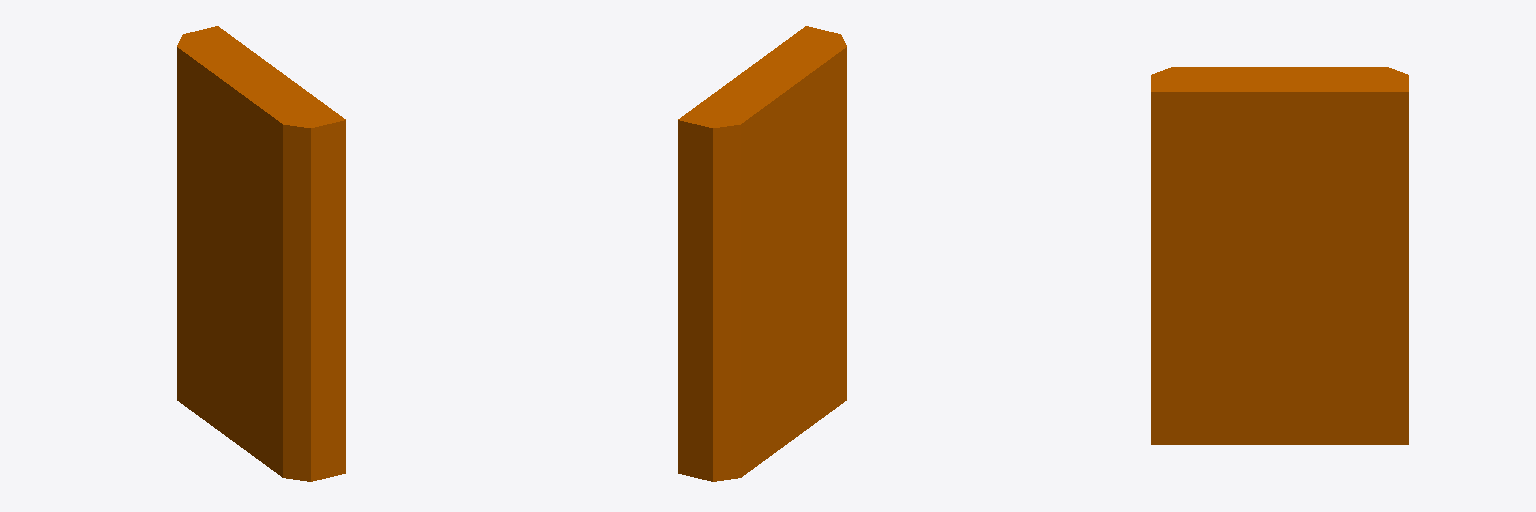
Rendered from Speaker.obj.
3 views of the same model, side by side, from view 1: azimuth 30°, elevation 25°; view 2: azimuth 150°, elevation 25°; view 3: azimuth 270°, elevation 25° (orthographic).
Parts seen in each view (by area): view 1: Speaker_Sphere.004; view 2: Speaker_Sphere.004; view 3: Speaker_Sphere.004.
Part boxes in pixels (x1,y1,x2,y2): Speaker_Sphere.004: (177,26,345,481); Speaker_Sphere.004: (678,26,846,481); Speaker_Sphere.004: (1151,67,1408,444).
Bounding box in the file's own units: 0.1119 × 0.7268 × 0.4788.